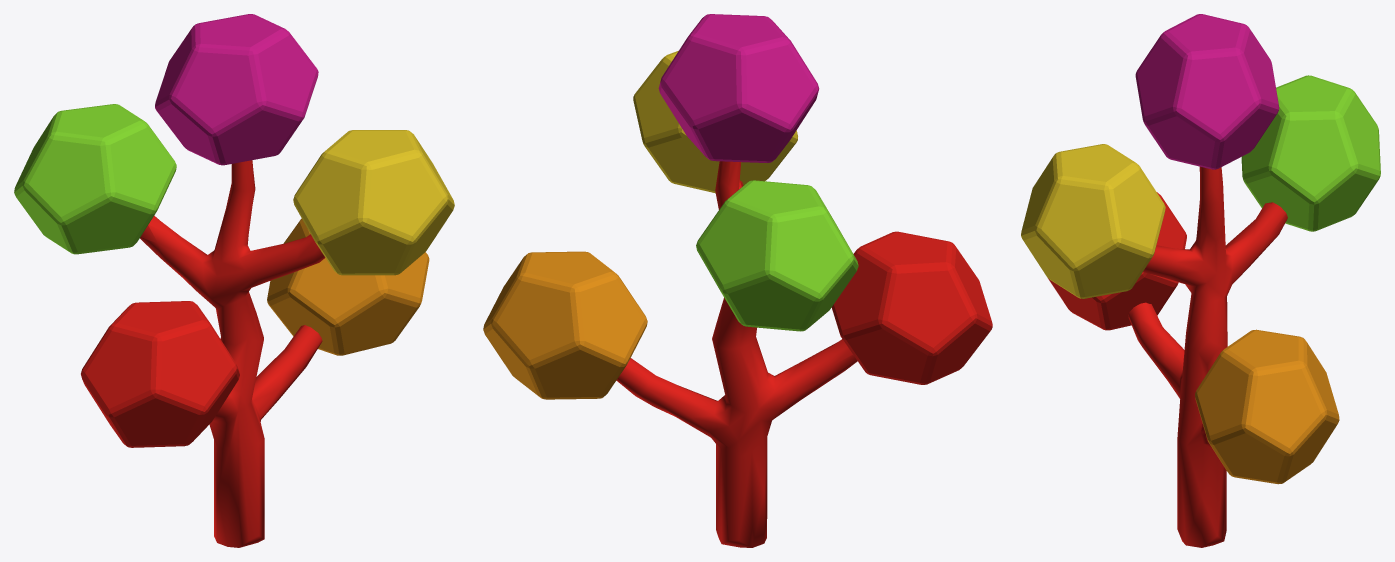
File: gummy_v5.glb
The picture shows the model from 3 angles, left to right: view 1: azimuth 30°, elevation 25°; view 2: azimuth 150°, elevation 25°; view 3: azimuth 270°, elevation 25°; orthographic projection.
Parts seen in each view (by area): view 1: Gummy_V5_Tiered_Gems; view 2: Gummy_V5_Tiered_Gems; view 3: Gummy_V5_Tiered_Gems.
Part boxes in pixels (x1,y1,x2,y2): Gummy_V5_Tiered_Gems: (14,14,454,547); Gummy_V5_Tiered_Gems: (483,14,992,547); Gummy_V5_Tiered_Gems: (1021,14,1380,547).
Bounding box in the file's own units: 4.32 × 5.11 × 3.31.
